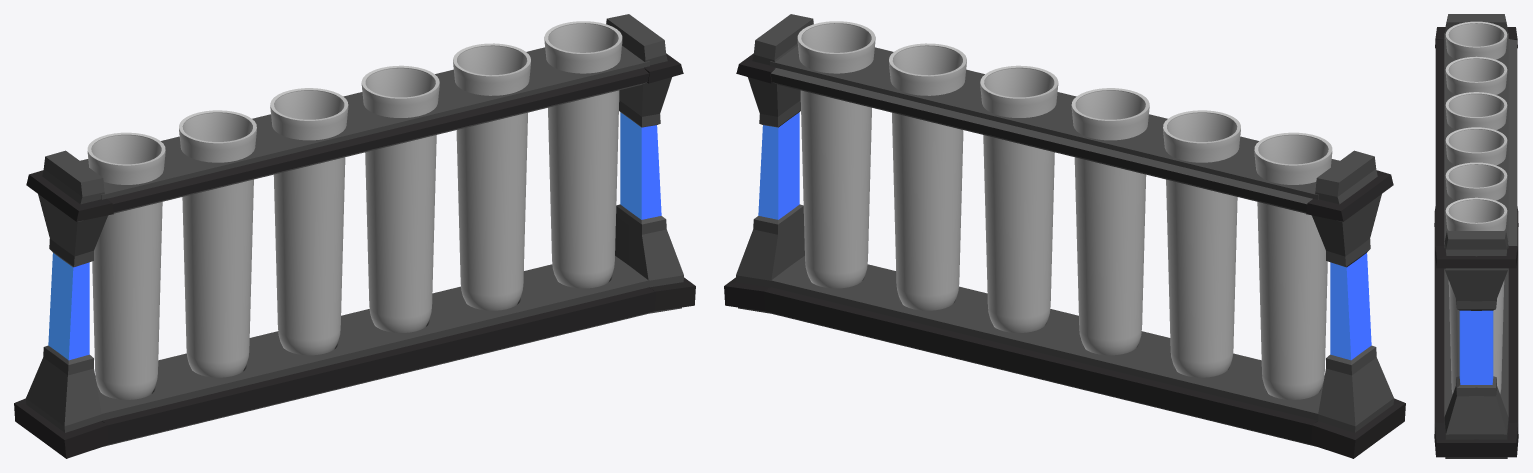
The model's file is TestTube.fbx.
The picture shows the model from 3 angles, left to right: view 1: azimuth 30°, elevation 25°; view 2: azimuth 150°, elevation 25°; view 3: azimuth 270°, elevation 25°; orthographic projection. The views are drawn at different scales.
Visible parts, largest first — view 1: TestTube, HolderBottom, Cube, HolderTop; view 2: TestTube, HolderBottom, Cube, HolderTop; view 3: TestTube, Cube, HolderTop, HolderBottom.
Part boxes in pixels (<box>): TestTube: <box>87,21,622,399</box>; HolderBottom: <box>95,256,655,446</box>; Cube: <box>14,14,695,458</box>; HolderTop: <box>80,45,649,213</box>; TestTube: <box>797,21,1332,399</box>; HolderBottom: <box>764,256,1324,446</box>; Cube: <box>724,14,1405,458</box>; HolderTop: <box>770,45,1339,213</box>; TestTube: <box>1445,21,1507,393</box>; Cube: <box>1434,14,1518,458</box>; HolderTop: <box>1435,33,1517,248</box>; HolderBottom: <box>1434,211,1518,422</box>.
Size of the model in its own units: 2311 by 964 by 337.
